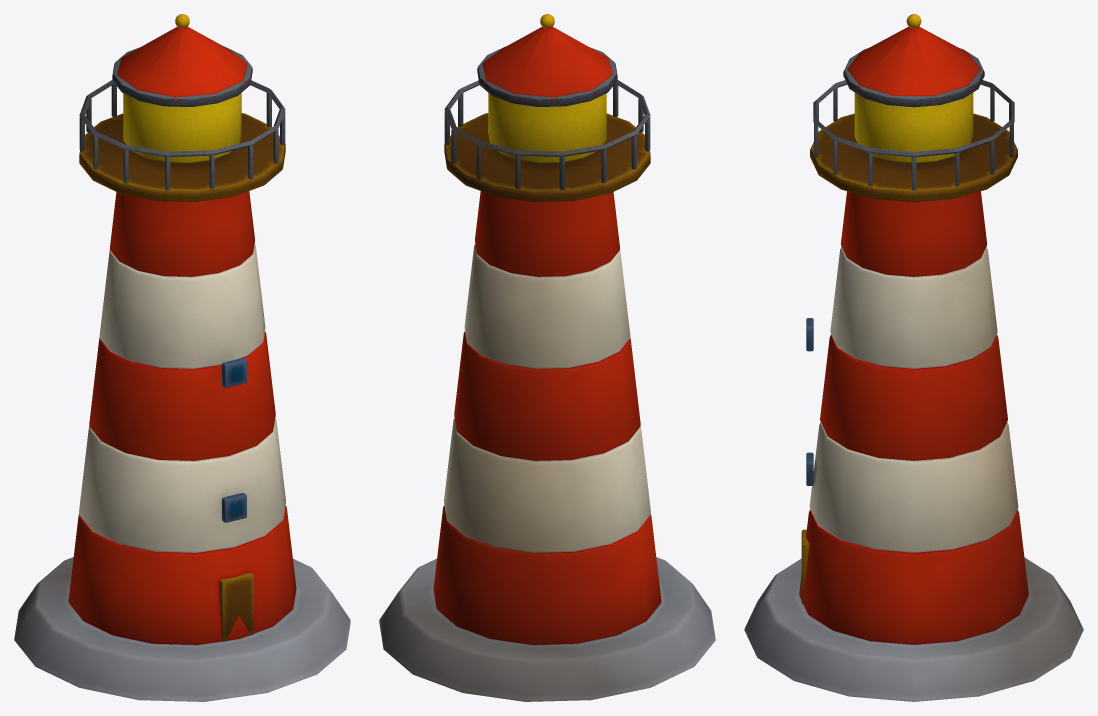
The model's file is Lighthouse.fbx.
3 renders of one model, left to right at view 1: azimuth 30°, elevation 25°; view 2: azimuth 150°, elevation 25°; view 3: azimuth 270°, elevation 25°, orthographic.
Visible parts, largest first — view 1: Lighthouse; view 2: Lighthouse; view 3: Lighthouse.
Boxes of the visible parts, left/top/right/bottom form: Lighthouse: left=14, top=14, right=350, bottom=701; Lighthouse: left=379, top=14, right=715, bottom=701; Lighthouse: left=744, top=14, right=1083, bottom=701.
Size of the model in its own units: 4.56 by 9.15 by 4.56.
